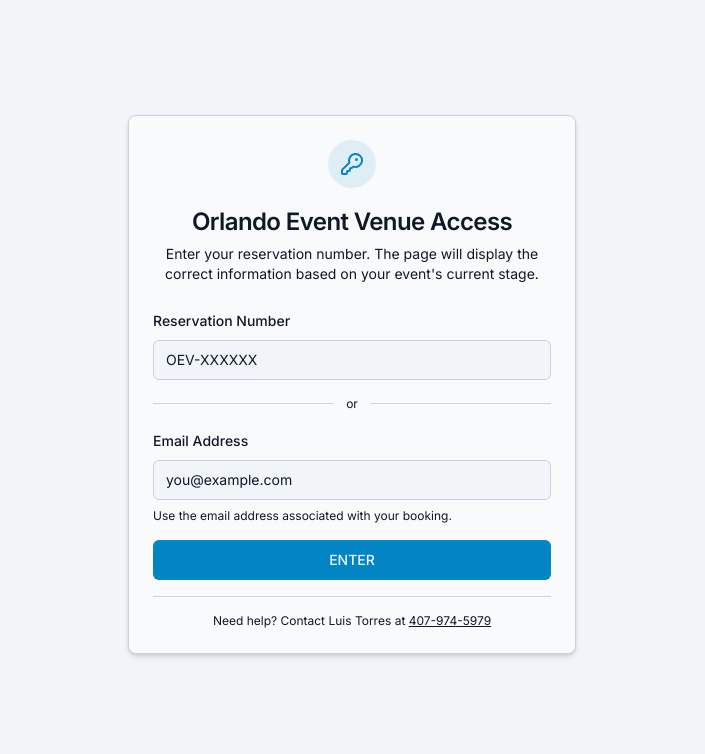
AccessCode — STATE 2 (access released) › shows the door code, entry steps, guest report, rules, and reservation details
The width and height of the screenshot is (705, 754).
Type "OEV-TEST01" into the field labelled "Reservation Number" at [352, 360], box [153, 340, 551, 380]
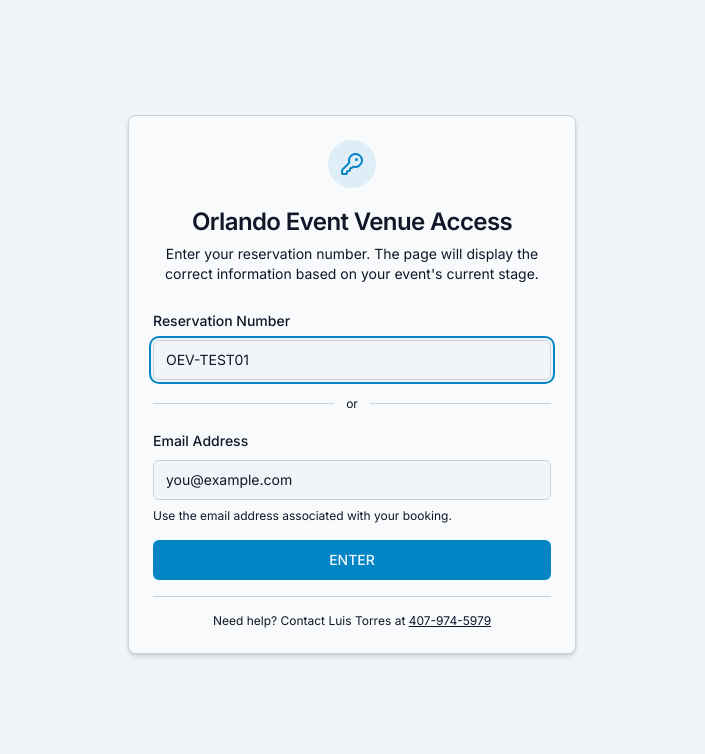
Click the button "ENTER" at [352, 560], box [153, 540, 551, 580]
(page scrolled)
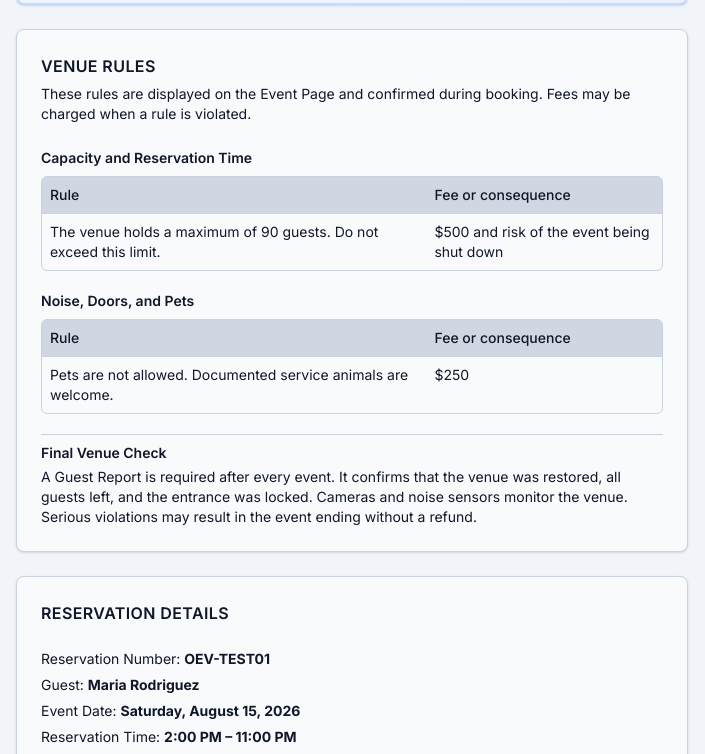
Expected: the text "Venue Rules" is shown, [41, 56, 156, 76]
Expected: the text "Reservation Details" is shown, [41, 602, 229, 622]
Expected: the text "OEV-TEST01" is shown, [184, 650, 270, 666]
